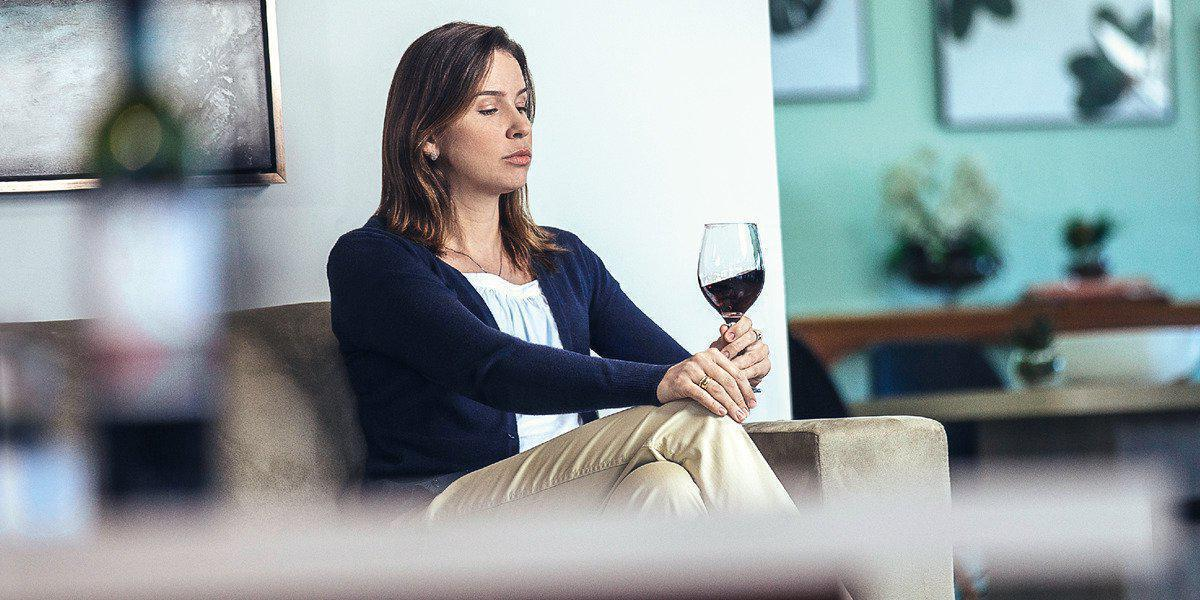Drunk: (448, 48, 536, 193)
